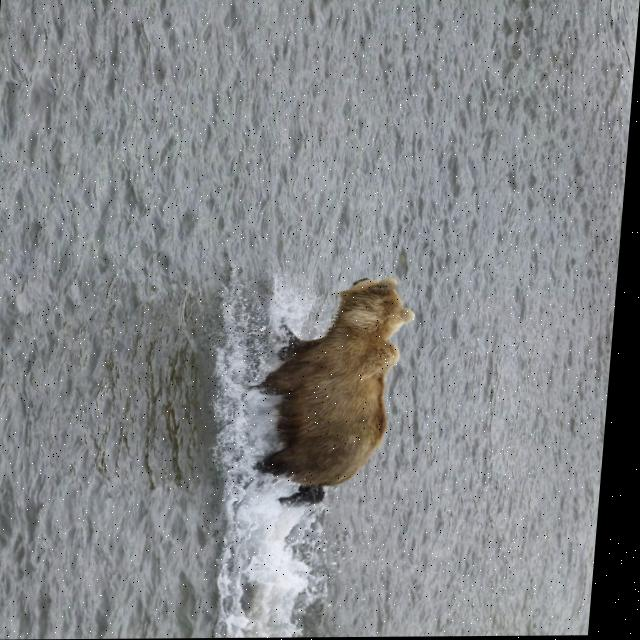bear face: (262, 277, 423, 506)
